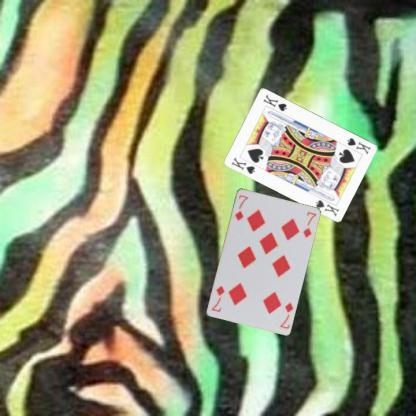7d: (277, 299, 295, 330), (232, 192, 249, 222)
Ks: (345, 135, 372, 156), (230, 155, 257, 175)
